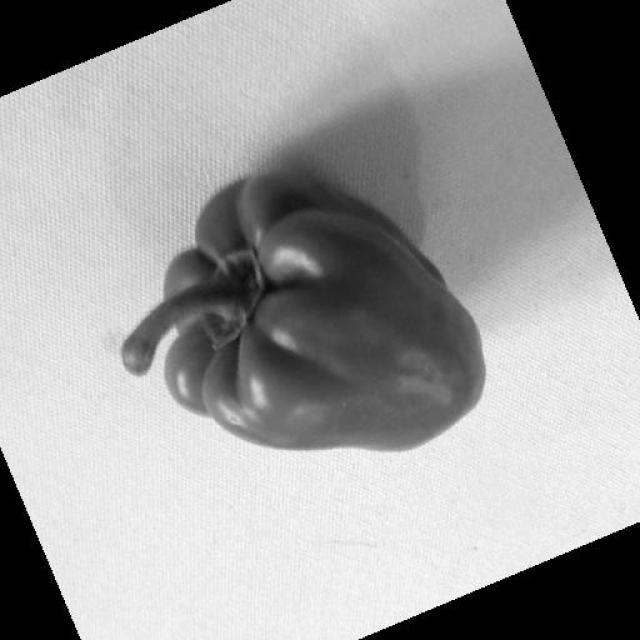Fresh_Capsicum: (150, 180, 491, 458)
